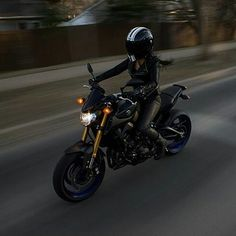helmet: (126, 25, 152, 55)
